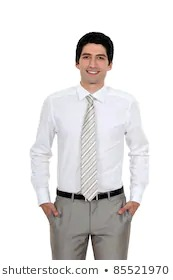F_belt: (57, 185, 125, 200)
F_dress pants: (49, 192, 131, 260)
F_shirt: (27, 87, 150, 206)
F_tie: (82, 94, 98, 202)
